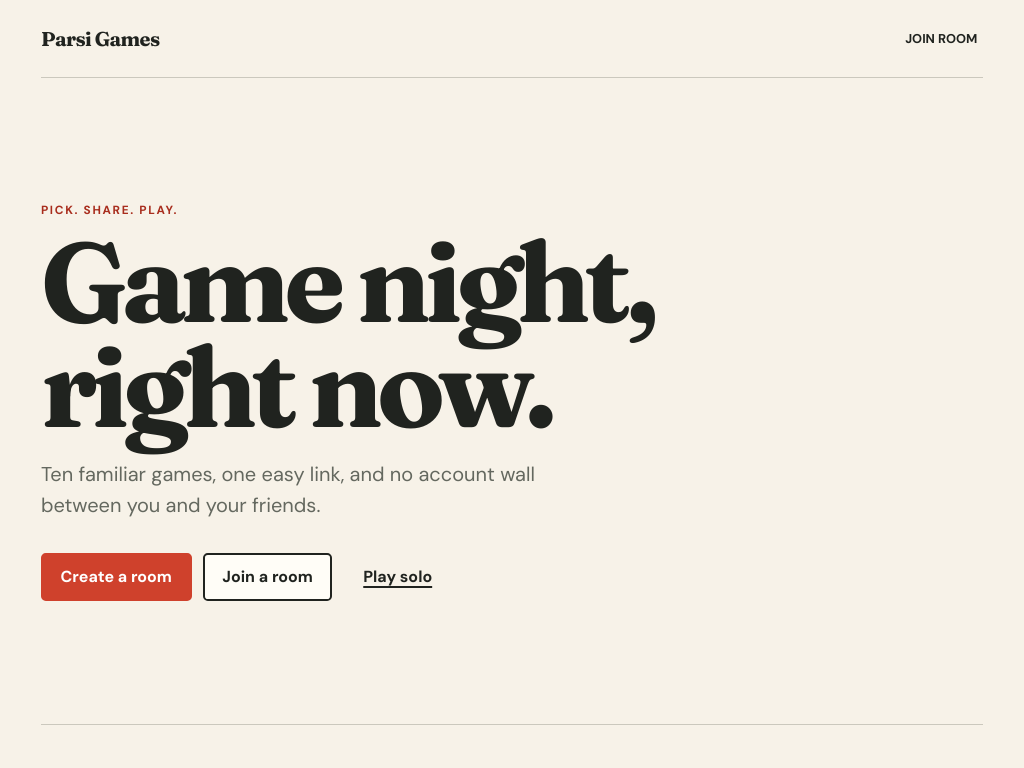
Test: Parsi Games product shell › creates a room and exposes host lobby controls
The image size is (1024, 768).
Step 1. Click the link "Create a room" → (116, 577), box [41, 553, 192, 601]
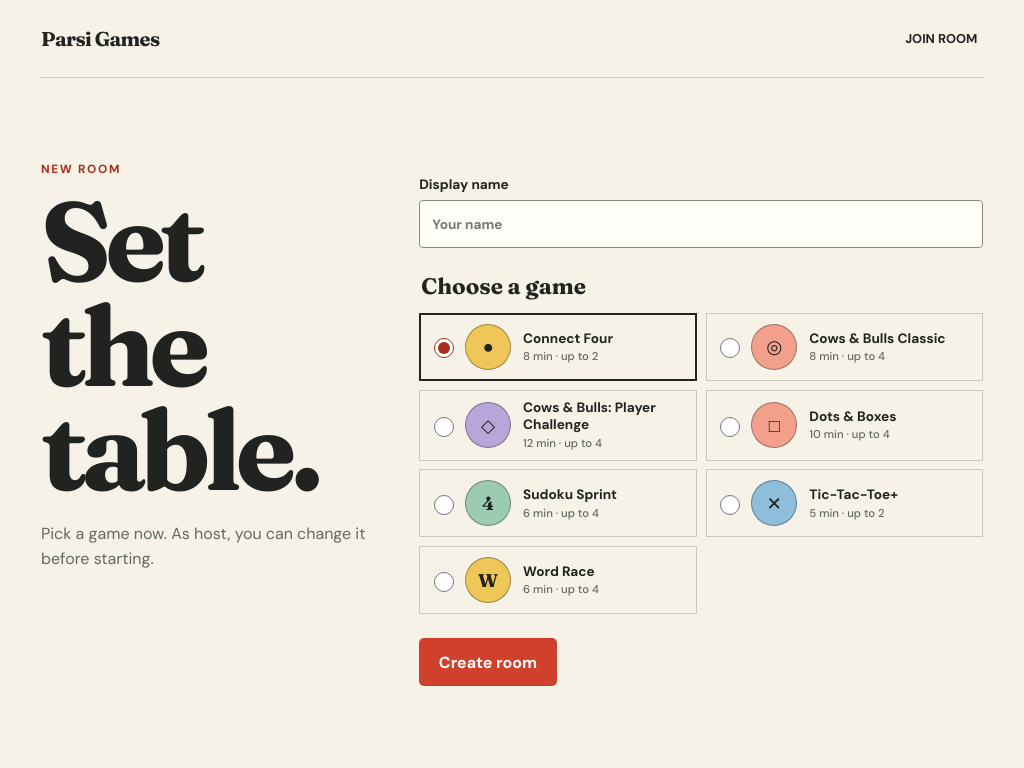
Step 2. Type "Ari" into the field labelled "Display name" → (701, 224), box [419, 200, 983, 248]
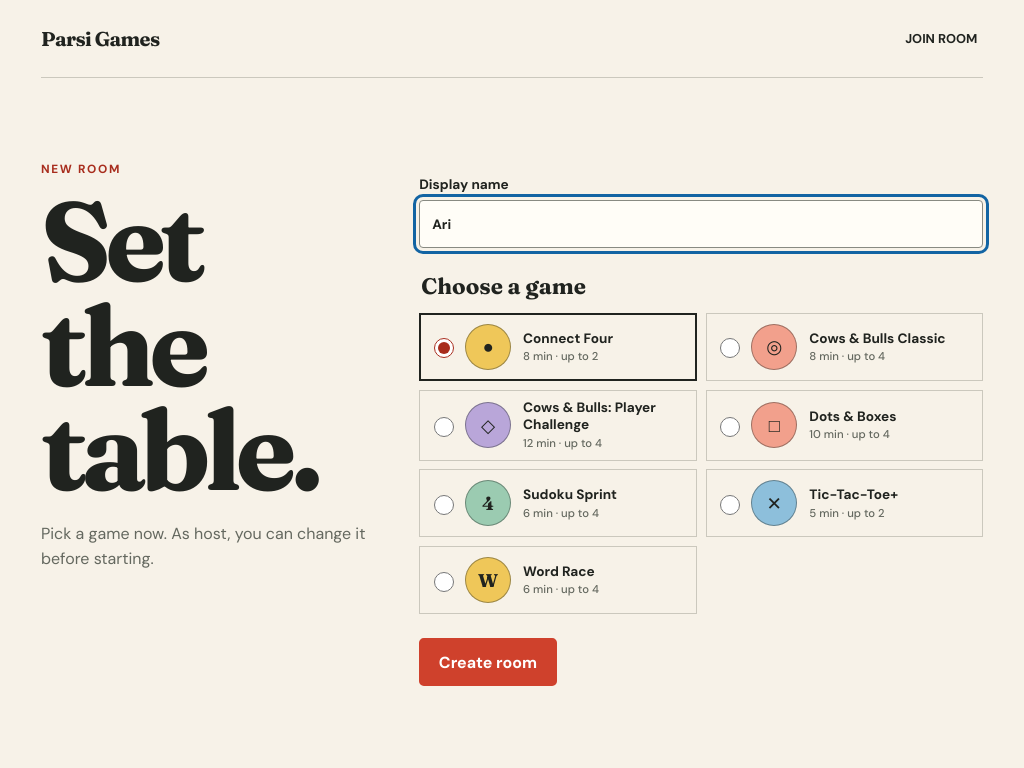
Step 3. Click the button "Create room" → (488, 662), box [419, 638, 557, 686]
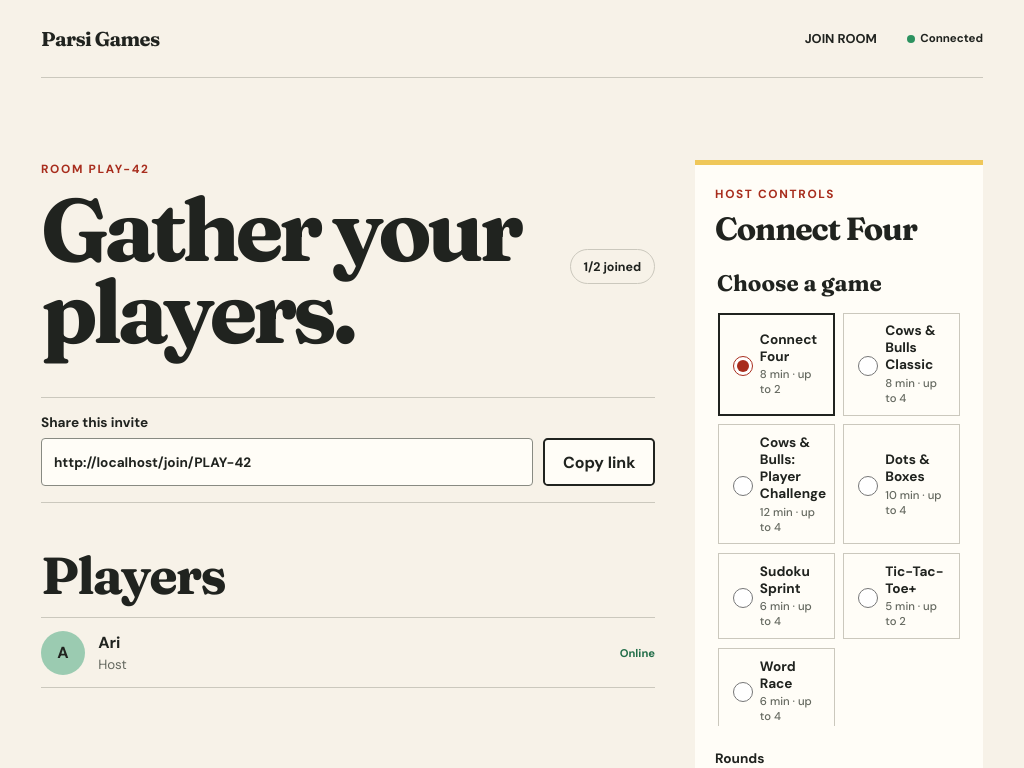
expect the heading "Gather your players." is shown: met, box [41, 189, 554, 353]
expect the text "Host controls" is shown: met, box [715, 186, 835, 202]
expect the field showing "/join/PLAY-42" is shown: met, box [41, 438, 533, 486]
